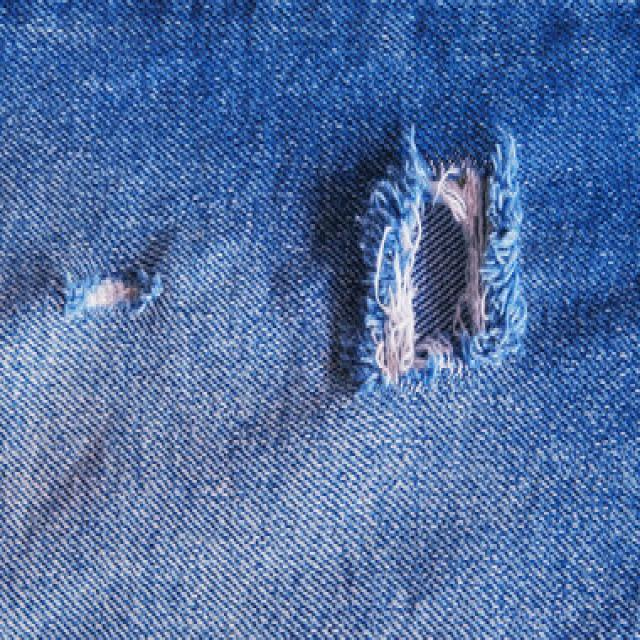Hole: (352, 126, 528, 388), (64, 226, 176, 322)
